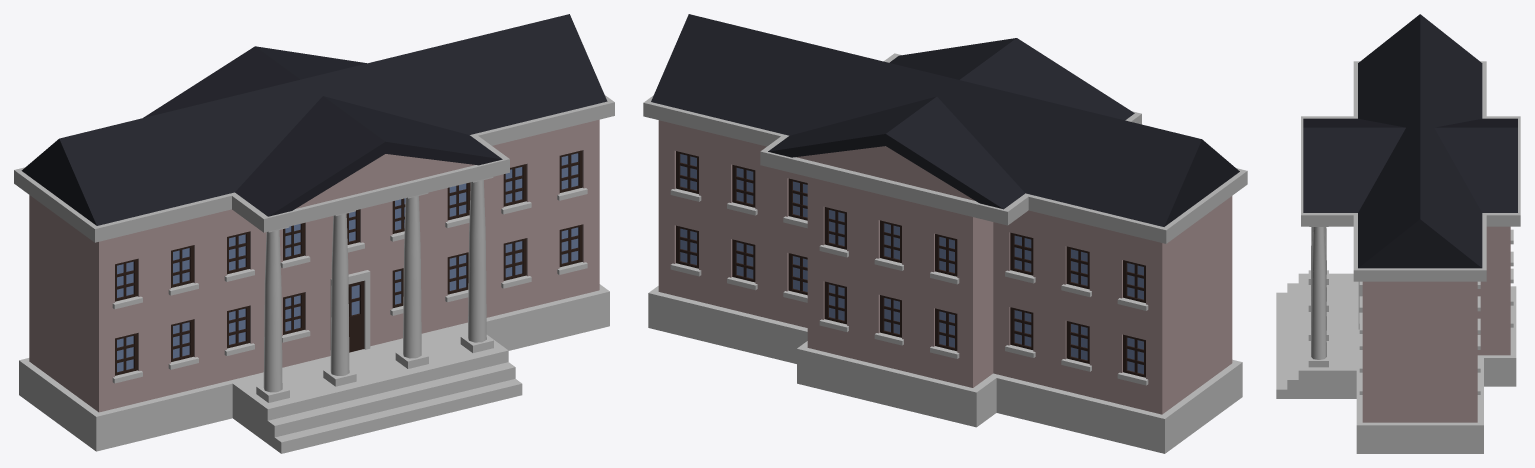
File: GovernmentBuilding_06.fbx
The picture shows the model from 3 angles, left to right: view 1: azimuth 30°, elevation 25°; view 2: azimuth 150°, elevation 25°; view 3: azimuth 270°, elevation 25°; orthographic projection. The views are drawn at different scales.
Parts seen in each view (by area): view 1: GovernmentBuilding_06; view 2: GovernmentBuilding_06; view 3: GovernmentBuilding_06.
Boxes of the visible parts, bbox=[...] form: GovernmentBuilding_06: bbox=[14, 14, 614, 453]; GovernmentBuilding_06: bbox=[643, 14, 1247, 453]; GovernmentBuilding_06: bbox=[1276, 14, 1520, 453].
Size of the model in its own units: 23.34 by 12.2 by 11.54.
